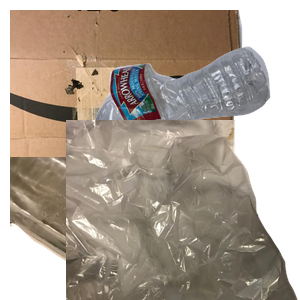cardboard: (10, 10, 245, 190)
glass: (10, 157, 190, 300)
plastic: (72, 44, 300, 200)
trash: (66, 120, 300, 300)
